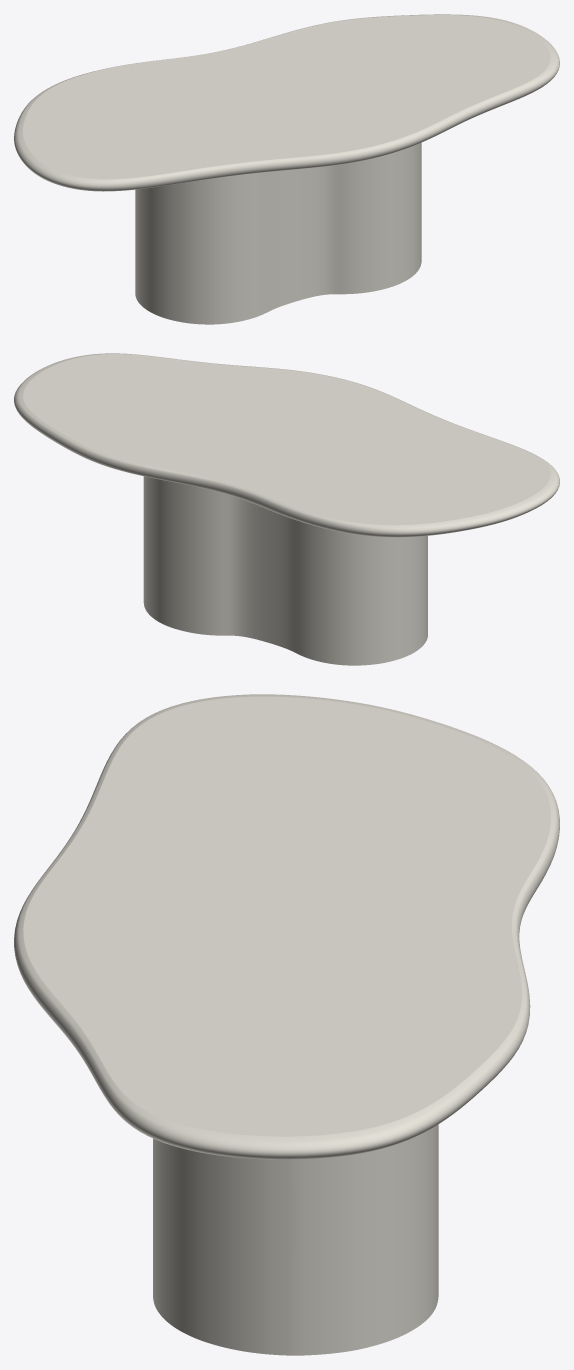
File: pale_toplast_round_riverwave.glb
3 views of the same model, one above another, from view 1: azimuth 30°, elevation 25°; view 2: azimuth 150°, elevation 25°; view 3: azimuth 270°, elevation 25° (orthographic). The views are drawn at different scales.
Parts seen in each view (by area): view 1: round_toplast, riverwave; view 2: round_toplast, riverwave; view 3: round_toplast, riverwave.
Boxes of the visible parts, x1,y1,x2,y2 form: round_toplast: (14,14,559,191); riverwave: (135,142,421,324); round_toplast: (14,353,559,537); riverwave: (143,476,427,665); round_toplast: (14,694,559,1159); riverwave: (153,1124,438,1355).
Size of the model in its own units: 7.5 by 2.5 by 3.8.
Materials: 1 (1 with a texture image).
